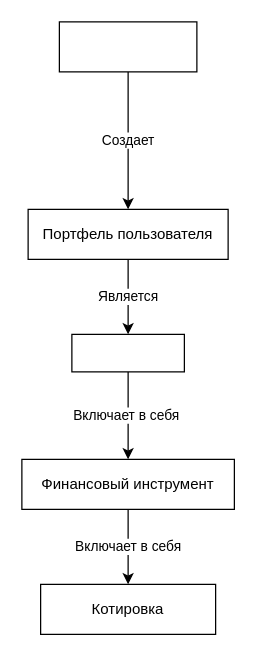
Some shapes in this 256 by 656 pixel diagram are drawn without their labels. Each missing label, with the centre of its shape:
"Пользователь" goes at pixel 127 46.
"Портфель" goes at pixel 127 352.
